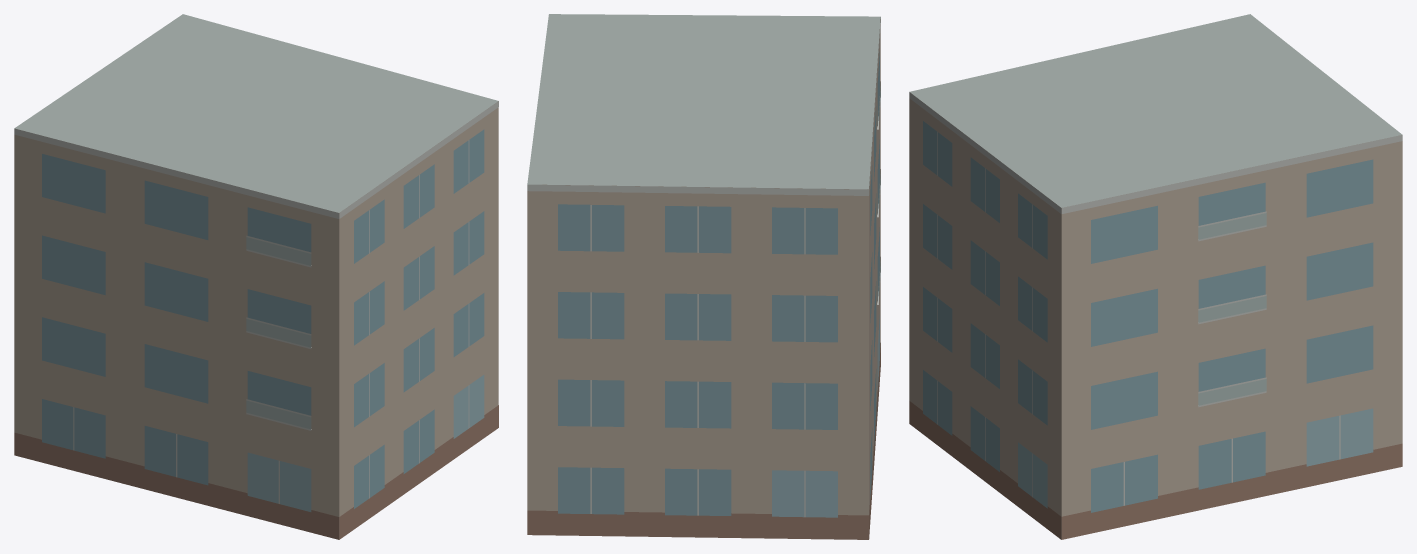
Rendered from survey-upis-32704070.glb.
The picture shows the model from 3 angles, left to right: view 1: azimuth 30°, elevation 25°; view 2: azimuth 150°, elevation 25°; view 3: azimuth 270°, elevation 25°; orthographic projection. The views are drawn at different scales.
Visible parts, largest first — view 1: survey-upis-32704070.tmp; view 2: survey-upis-32704070.tmp; view 3: survey-upis-32704070.tmp.
Part boxes in pixels (x1,y1,x2,y2): survey-upis-32704070.tmp: (14,14,498,539); survey-upis-32704070.tmp: (527,14,880,539); survey-upis-32704070.tmp: (909,14,1402,539).
Size of the model in its own units: 16.18 by 12.9 by 17.39.
